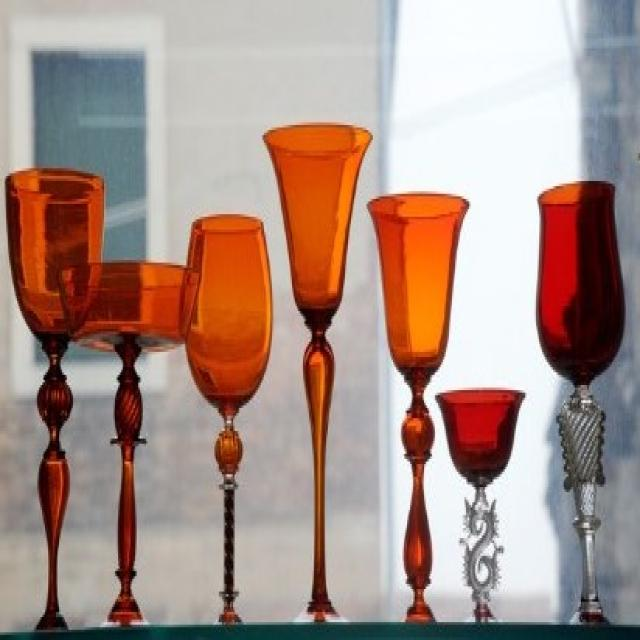electronic: (3, 118, 640, 638)
